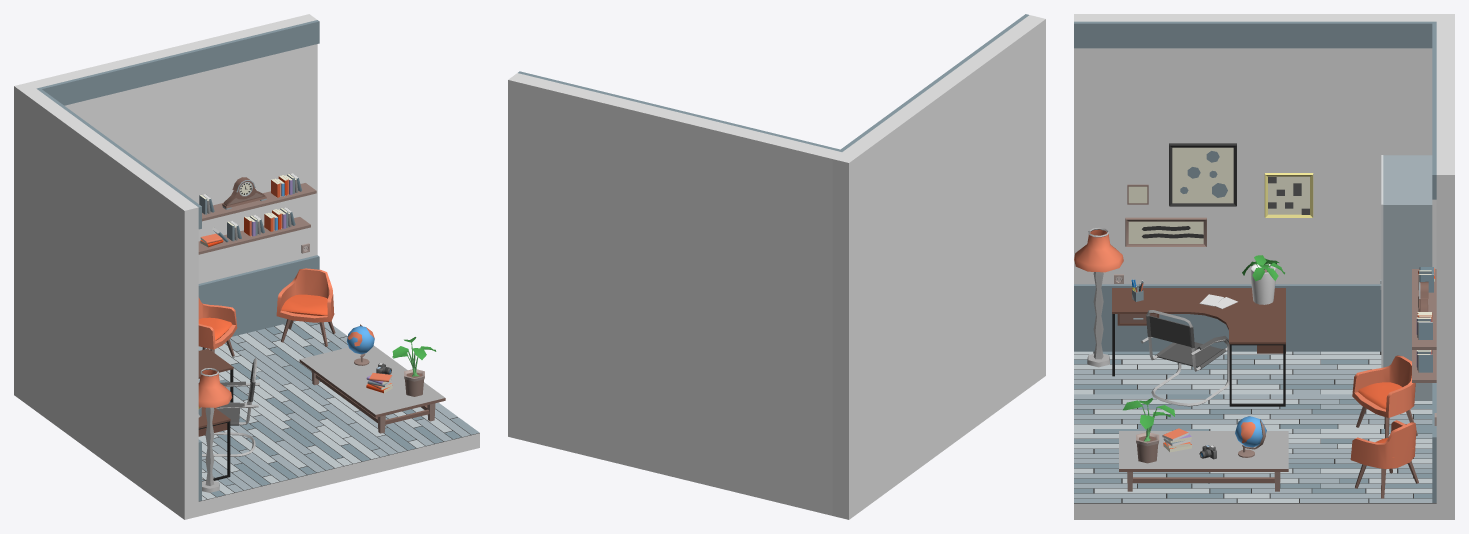
File: room_9.glb
3 renders of one model, left to right at view 1: azimuth 30°, elevation 25°; view 2: azimuth 150°, elevation 25°; view 3: azimuth 270°, elevation 25°, orthographic. The views are drawn at different scales.
Visible parts, largest first — view 1: Walls_006.009, Walls_006.008, floor_002.001, Walls_011.004, Walls_111.003, coffee_table_019.001, Walls_111.005, lounge_chair_013.001, lamp_005.002, lounge_chair_013.002, office_table_031.001, kitchen_chair_015.001 (+8 smaller); view 2: Walls_006.008, Walls_006.009, Walls_111.003, Walls_111.004; view 3: Walls_006.009, floor_002.001, Walls_011.004, Walls_111.006, Walls_111.004, picture_034.002, Walls_006.008, closet_011.001, office_table_031.001, coffee_table_019.001, kitchen_chair_015.001, lounge_chair_013.002 (+11 smaller).
Boxes of the visible parts, x1=… form: Walls_006.009: x1=14, y1=82, x2=198, y2=519; Walls_006.008: x1=28, y1=14, x2=317, y2=283; floor_002.001: x1=198, y1=321, x2=479, y2=500; Walls_011.004: x1=198, y1=321, x2=479, y2=516; Walls_111.003: x1=36, y1=20, x2=319, y2=105; coffee_table_019.001: x1=299, y1=345, x2=445, y2=433; Walls_111.005: x1=198, y1=255, x2=319, y2=336; lounge_chair_013.001: x1=276, y1=268, x2=335, y2=346; lamp_005.002: x1=198, y1=368, x2=232, y2=492; lounge_chair_013.002: x1=198, y1=297, x2=237, y2=356; office_table_031.001: x1=198, y1=348, x2=233, y2=481; kitchen_chair_015.001: x1=202, y1=358, x2=259, y2=456; Walls_006.008: x1=508, y1=73, x2=841, y2=515; Walls_006.009: x1=832, y1=15, x2=1045, y2=519; Walls_111.003: x1=518, y1=71, x2=843, y2=151; Walls_111.004: x1=841, y1=14, x2=1028, y2=150; Walls_006.009: x1=1074, y1=14, x2=1454, y2=284; floor_002.001: x1=1074, y1=351, x2=1432, y2=502; Walls_011.004: x1=1074, y1=351, x2=1436, y2=519; Walls_111.006: x1=1074, y1=284, x2=1381, y2=351; Walls_111.004: x1=1074, y1=21, x2=1432, y2=48; picture_034.002: x1=1125, y1=143, x2=1313, y2=246; Walls_006.008: x1=1436, y1=21, x2=1454, y2=519; closet_011.001: x1=1380, y1=155, x2=1432, y2=400; office_table_031.001: x1=1112, y1=288, x2=1285, y2=406; coffee_table_019.001: x1=1119, y1=431, x2=1288, y2=491; kitchen_chair_015.001: x1=1141, y1=310, x2=1229, y2=406; lounge_chair_013.002: x1=1352, y1=355, x2=1417, y2=438.
Size of the model in its own units: 4.2 by 4.2 by 4.2.
1 material, 1 textured.
